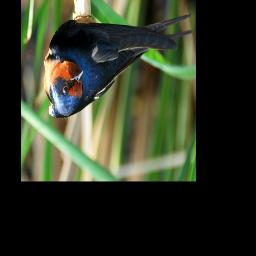Swallow: (42, 12, 194, 121)
